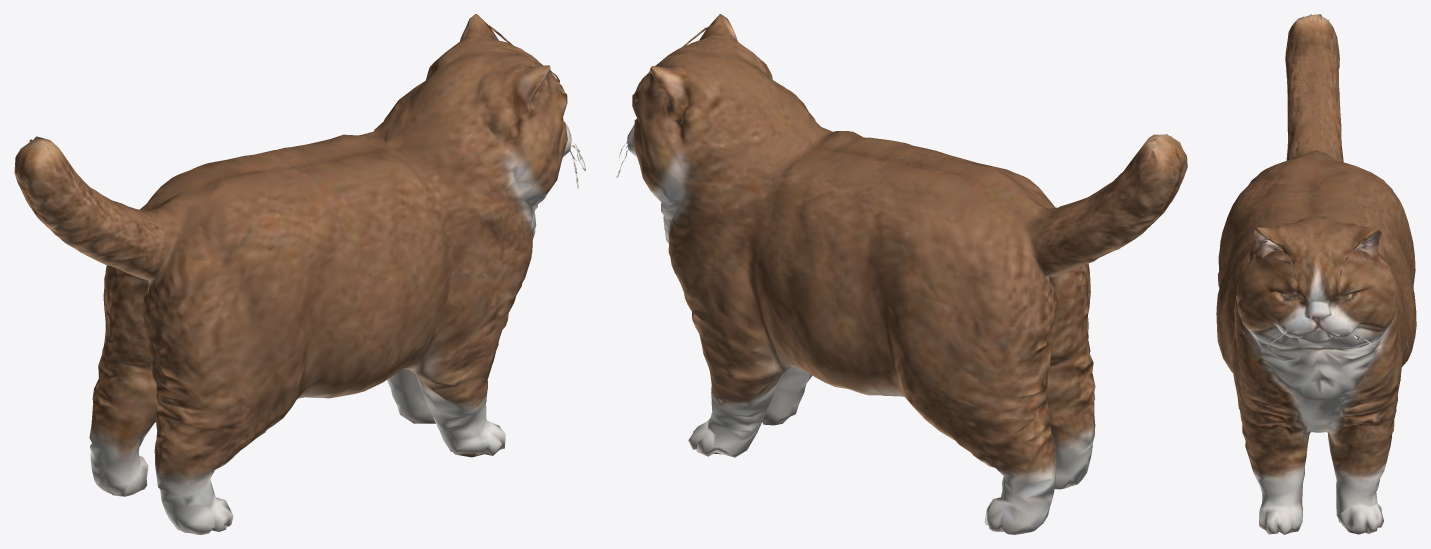
File: PONTAKUN-lo.glb
The picture shows the model from 3 angles, left to right: view 1: azimuth 30°, elevation 25°; view 2: azimuth 150°, elevation 25°; view 3: azimuth 270°, elevation 25°; orthographic projection. The views are drawn at different scales.
Parts seen in each view (by area): view 1: tripo_node_498bb738-63af-44ec-9286-51dead4b8a5f; view 2: tripo_node_498bb738-63af-44ec-9286-51dead4b8a5f; view 3: tripo_node_498bb738-63af-44ec-9286-51dead4b8a5f.
Boxes of the visible parts, box(x1,y1,x2,y2) form: tripo_node_498bb738-63af-44ec-9286-51dead4b8a5f: box(14, 14, 585, 534); tripo_node_498bb738-63af-44ec-9286-51dead4b8a5f: box(616, 14, 1187, 534); tripo_node_498bb738-63af-44ec-9286-51dead4b8a5f: box(1216, 14, 1416, 534).
Bounding box in the file's own units: 1.42 × 0.9946 × 0.5295.
1 material, 1 textured.
